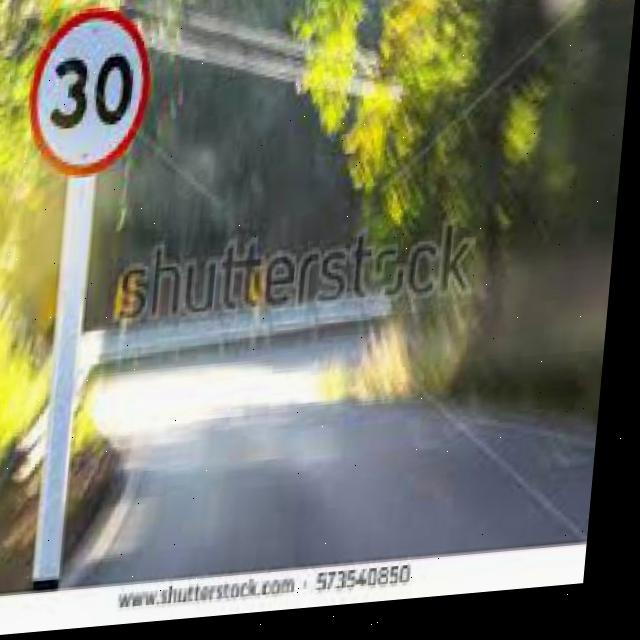Speed limit 30: (22, 2, 163, 185)
